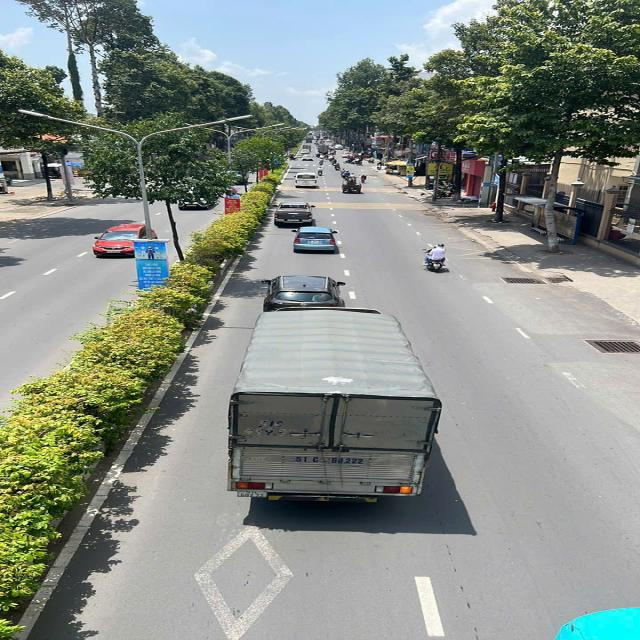Truck: (218, 305, 468, 529), (317, 145, 328, 155)
car: (263, 275, 342, 314), (94, 225, 156, 260), (291, 226, 338, 253), (274, 198, 310, 224), (289, 172, 323, 188), (301, 154, 314, 161), (301, 144, 312, 152), (340, 152, 353, 158), (333, 144, 344, 150), (300, 150, 310, 154)
motobyte: (427, 243, 448, 272), (341, 168, 346, 178), (334, 163, 341, 170), (360, 175, 366, 183), (344, 171, 350, 179), (350, 173, 356, 180), (317, 168, 323, 175), (330, 155, 336, 162), (319, 159, 324, 166), (332, 159, 337, 166), (358, 158, 362, 165)
non-motorized vehicle: (341, 178, 361, 193)
